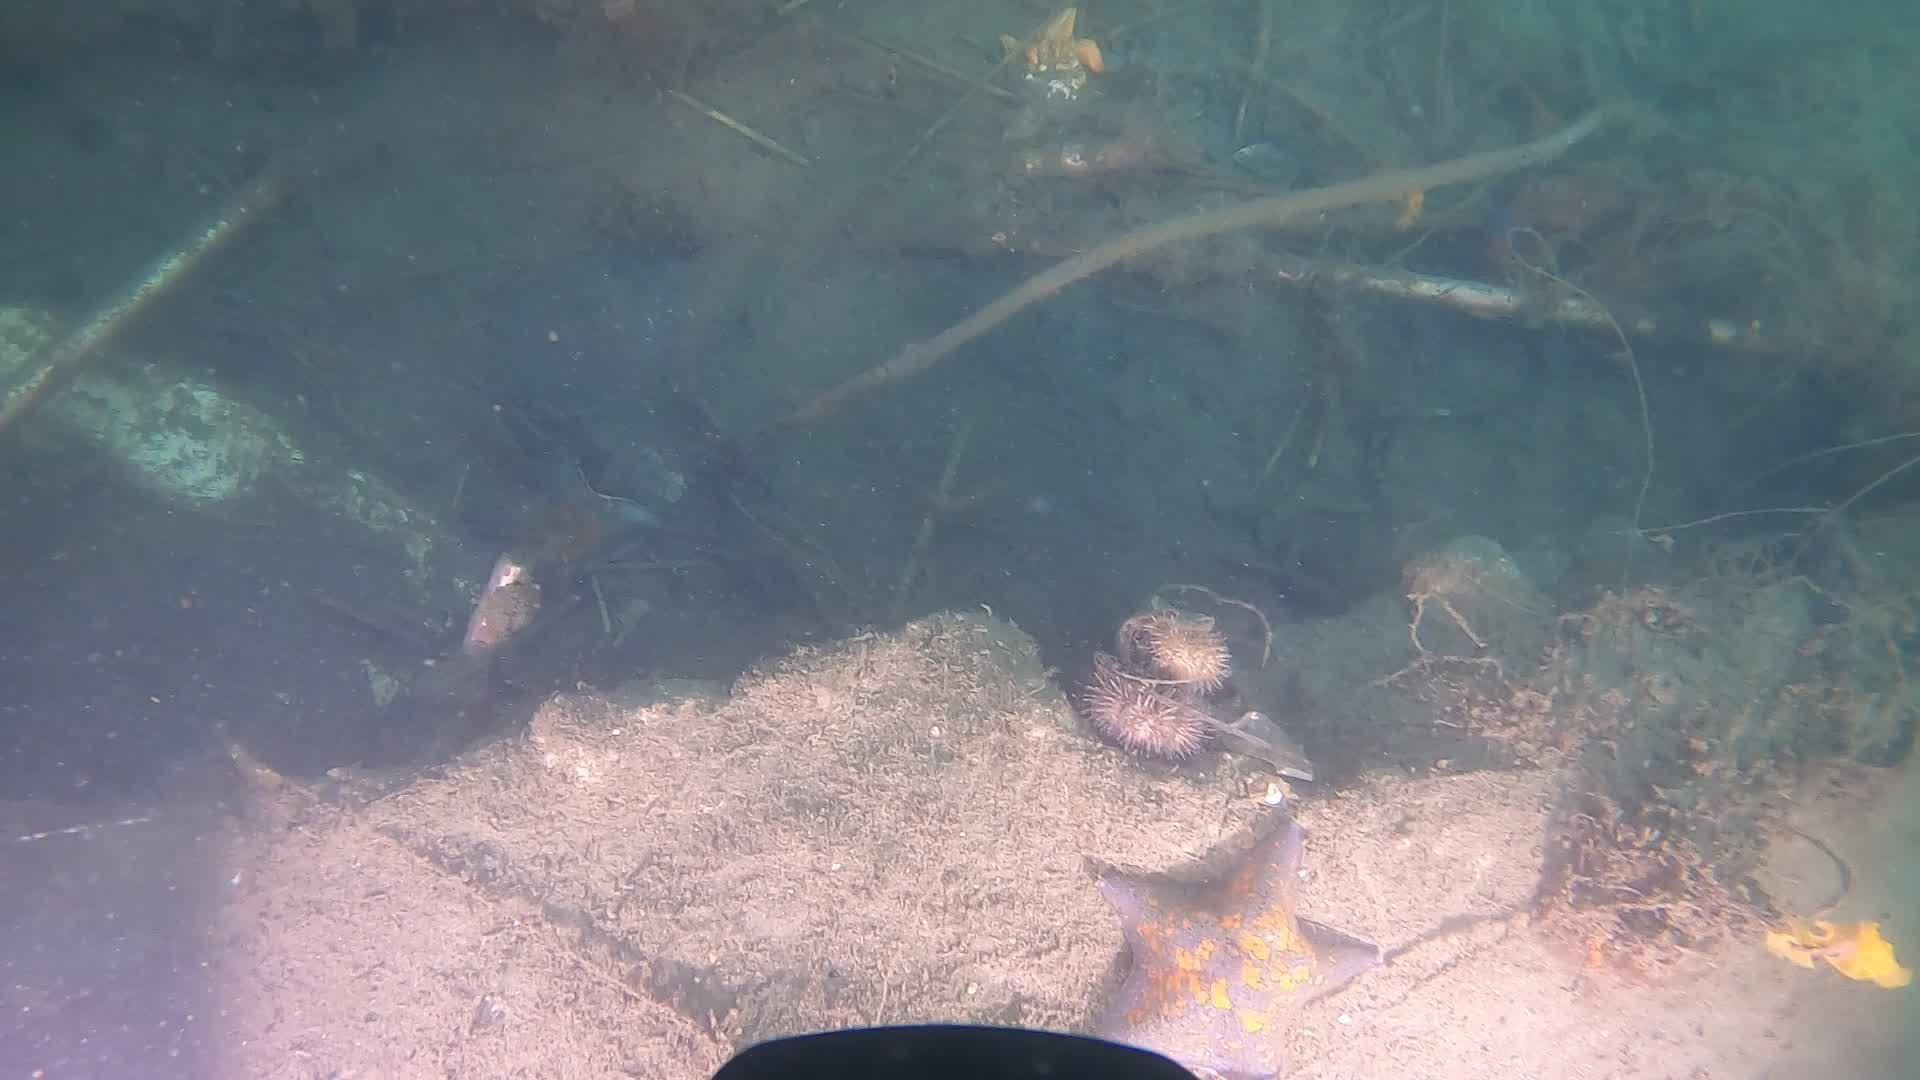rope: (793, 109, 1596, 419)
